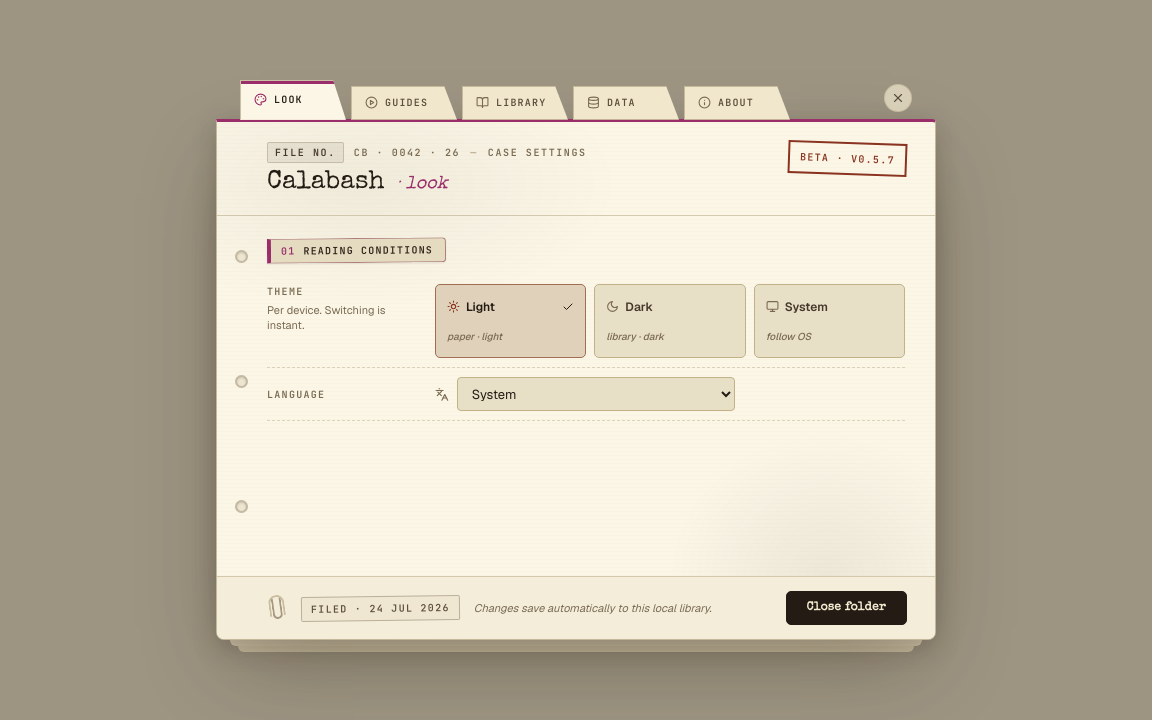
Test case: SettingsPanel › keeps About focused on release links without the built-on row
Click the button "About" at (737, 103), box [684,86,790,120]
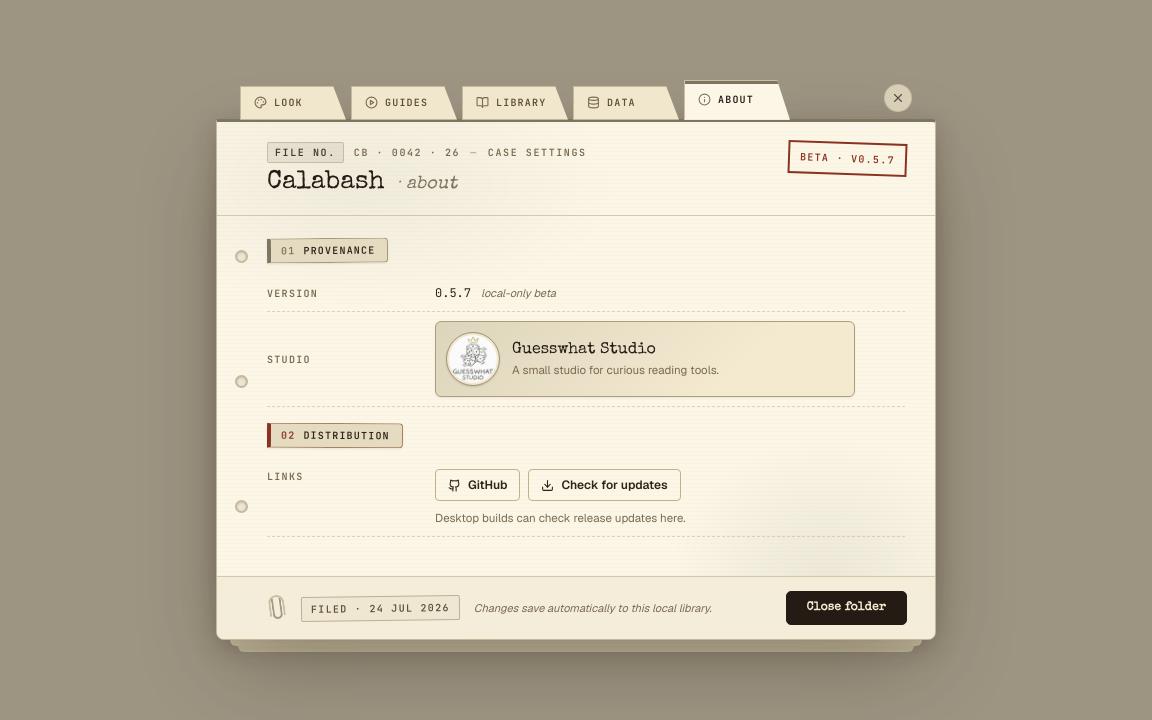
Result: the text "0.5.7" is shown at [435,284,471,302]
